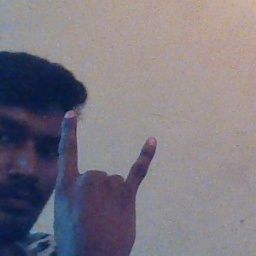V: (52, 105, 161, 256)
